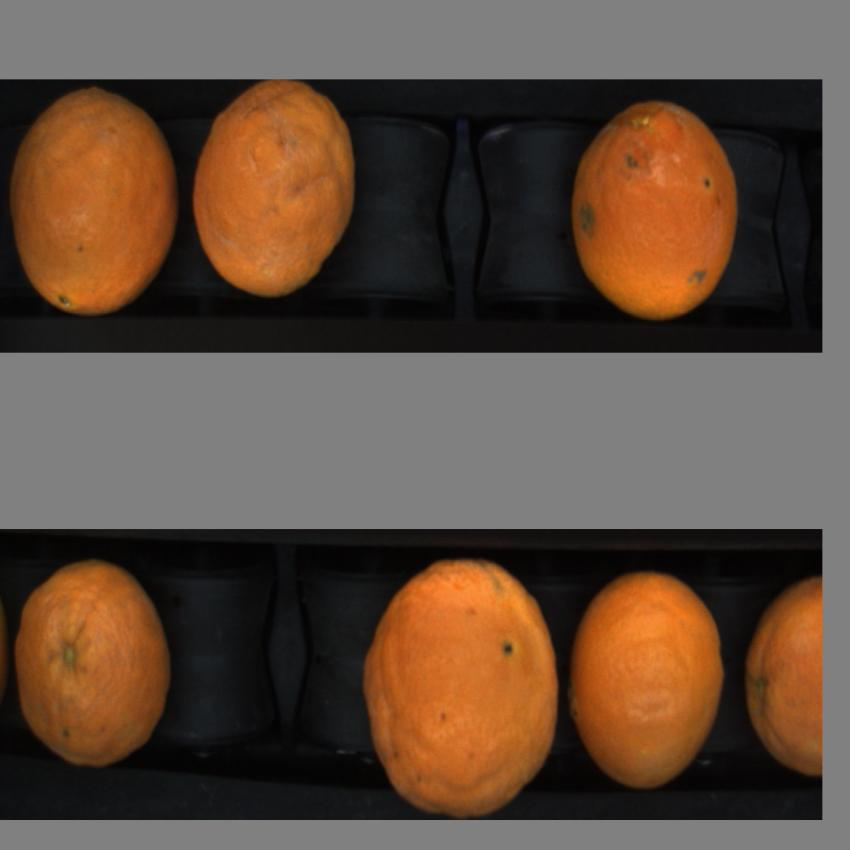Buen estado: (357, 552, 562, 812), (567, 554, 729, 796), (742, 564, 822, 784)
Mal estado: (565, 92, 745, 327), (6, 87, 180, 319), (189, 82, 374, 296), (11, 549, 177, 776)
